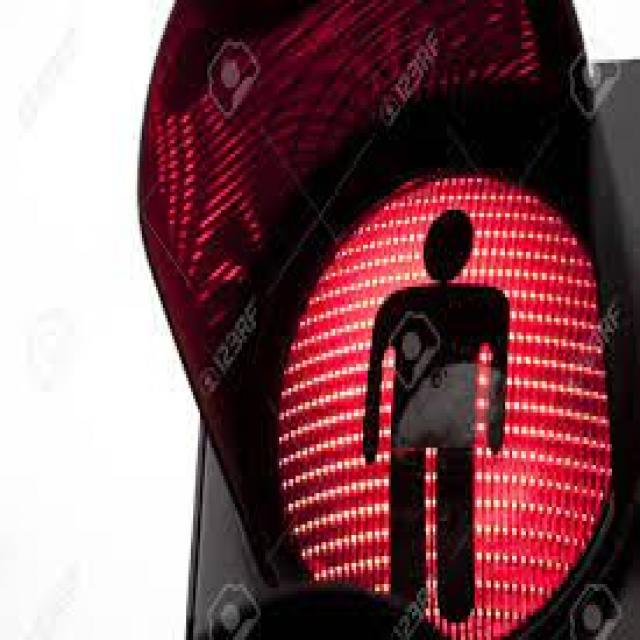Not go: (223, 117, 606, 634)
